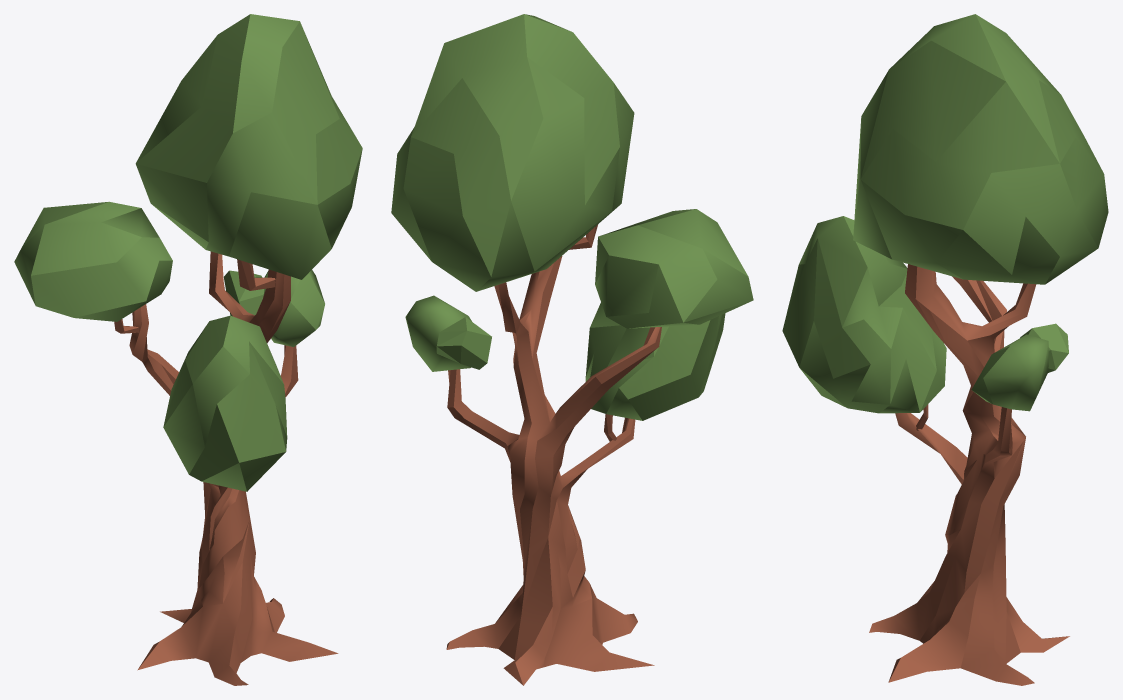
Rendered from Tree_4a.fbx.
3 renders of one model, left to right at view 1: azimuth 30°, elevation 25°; view 2: azimuth 150°, elevation 25°; view 3: azimuth 270°, elevation 25°, orthographic. The views are drawn at different scales.
Visible parts, largest first — view 1: Tree_4a; view 2: Tree_4a; view 3: Tree_4a.
Boxes of the visible parts, box(x1,y1,x2,y2) form: Tree_4a: box(14, 14, 362, 685); Tree_4a: box(391, 14, 753, 685); Tree_4a: box(782, 14, 1108, 685).
Bounding box in the file's own units: 159 × 288 × 132.
